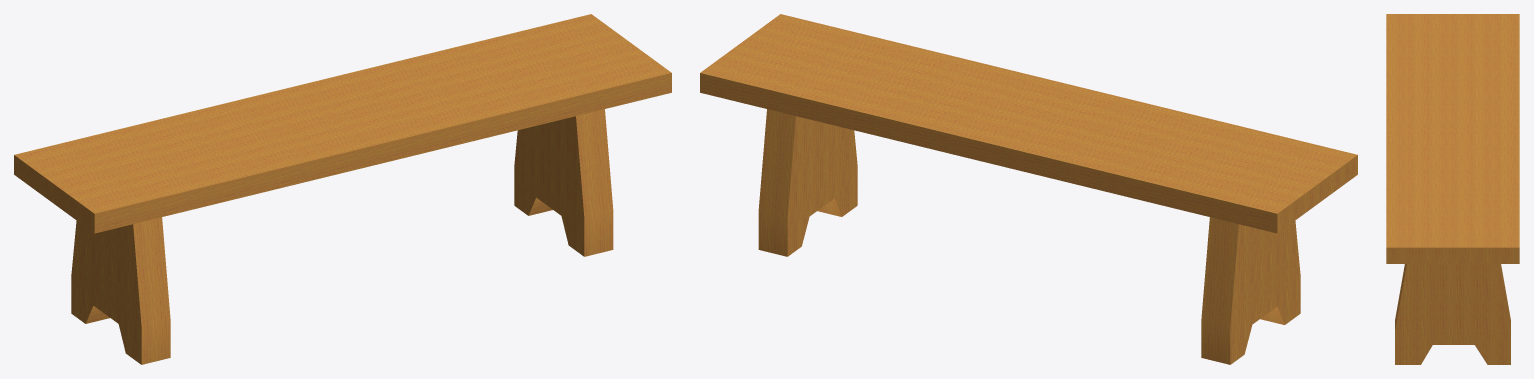
Rendered from bench.fbx.
The picture shows the model from 3 angles, left to right: view 1: azimuth 30°, elevation 25°; view 2: azimuth 150°, elevation 25°; view 3: azimuth 270°, elevation 25°; orthographic projection. The views are drawn at different scales.
Parts seen in each view (by area): view 1: pasted__pCube2; view 2: pasted__pCube2; view 3: pasted__pCube2.
Boxes of the visible parts, bbox=[...] form: pasted__pCube2: bbox=[14, 14, 671, 364]; pasted__pCube2: bbox=[700, 14, 1357, 364]; pasted__pCube2: bbox=[1386, 14, 1519, 364].
Size of the model in its own units: 23.84 by 6.62 by 5.76.
